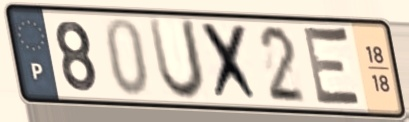0: (102, 15, 155, 102)
2: (257, 23, 309, 107)
8: (53, 18, 100, 93)
E: (301, 22, 367, 112)
U: (145, 15, 209, 105)
X: (198, 19, 264, 106)
